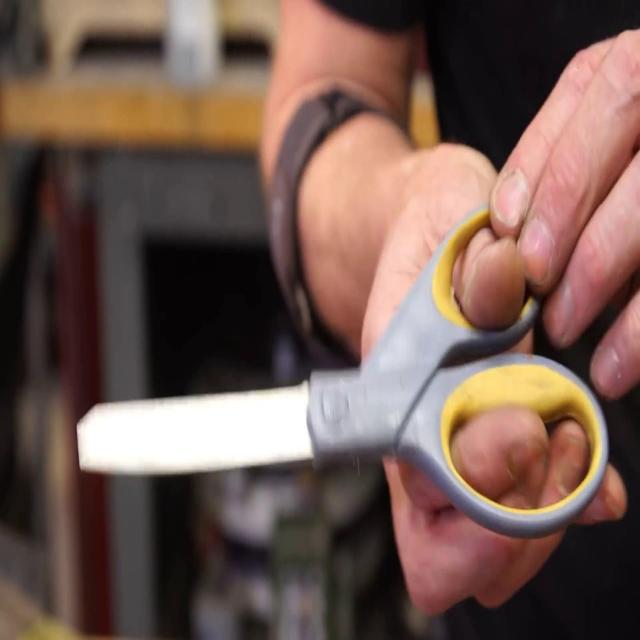scissor: (76, 203, 608, 535)
